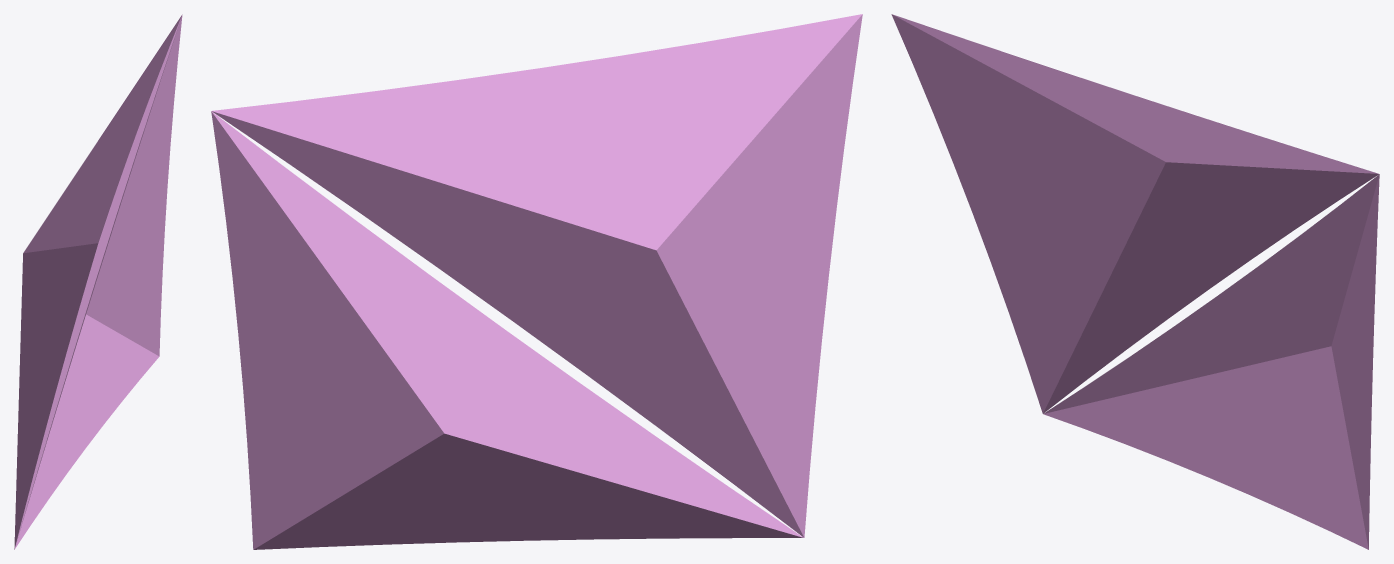
The model's file is TYPE5-1.glb.
3 views of the same model, side by side, from view 1: azimuth 30°, elevation 25°; view 2: azimuth 150°, elevation 25°; view 3: azimuth 270°, elevation 25° (orthographic). The views are drawn at different scales.
Visible parts, largest first — view 1: TYPE5-1 (×6); view 2: TYPE5-1 (×6); view 3: TYPE5-1 (×6).
Part boxes in pixels (box(x1,y1,x2,y2)): TYPE5-1 (×6): box(14, 15, 182, 549); TYPE5-1 (×6): box(211, 14, 862, 549); TYPE5-1 (×6): box(891, 14, 1379, 549).
Size of the model in its own units: 7.02 by 7.66 by 8.1.
